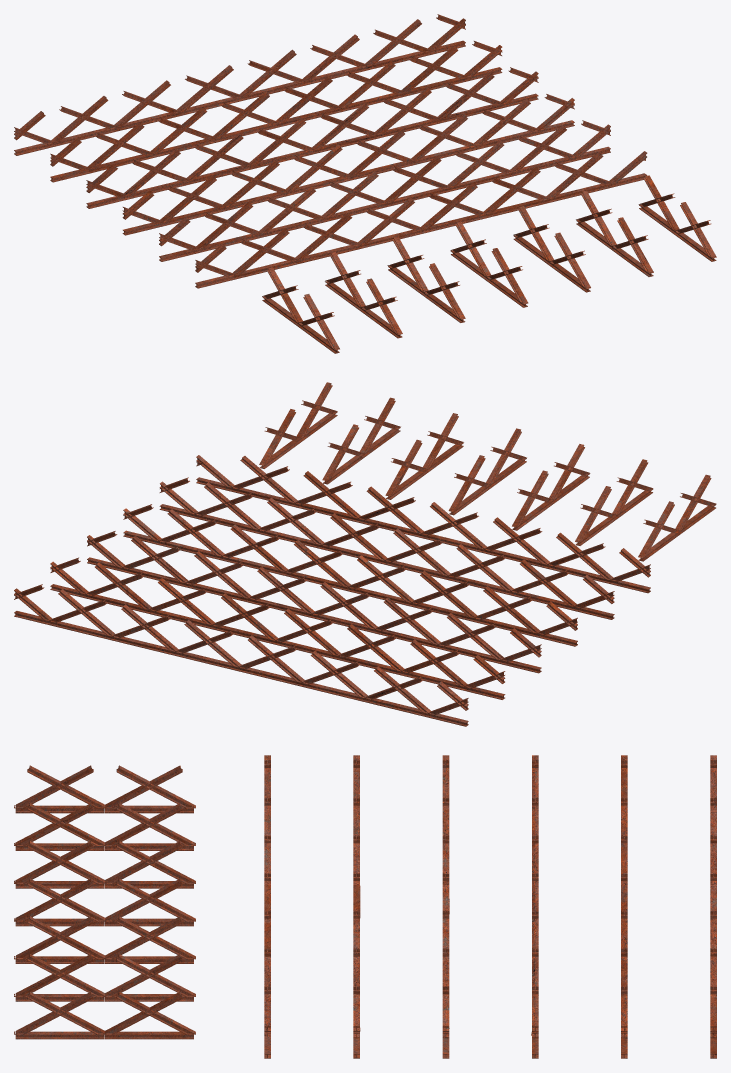
Rendered from HomeBeams.fbx.
3 renders of one model, top to bottom at view 1: azimuth 30°, elevation 25°; view 2: azimuth 150°, elevation 25°; view 3: azimuth 270°, elevation 25°, orthographic. The views are drawn at different scales.
Parts seen in each view (by area): view 1: ibeam, ibeam.005; view 2: ibeam, ibeam.005; view 3: ibeam.005, ibeam.
Boxes of the visible parts, x1,y1,x2,y2 form: ibeam: [14, 14, 647, 288]; ibeam.005: [262, 175, 716, 353]; ibeam: [14, 455, 650, 726]; ibeam.005: [259, 382, 716, 561]; ibeam.005: [14, 765, 195, 1039]; ibeam: [264, 755, 716, 1058].
Size of the model in its own units: 4296 by 334 by 4728.
